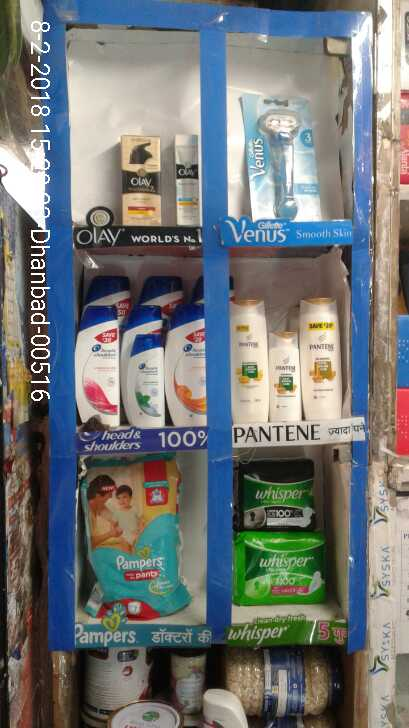venus: (252, 95, 314, 217)
